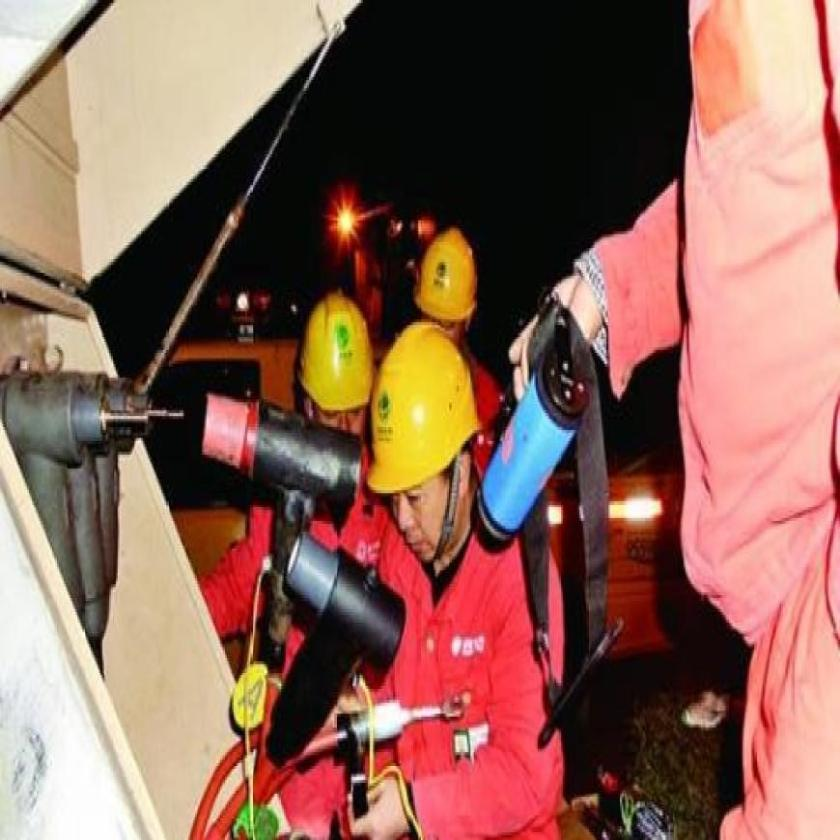Con_casco: (376, 319, 483, 582), (304, 293, 376, 436)
